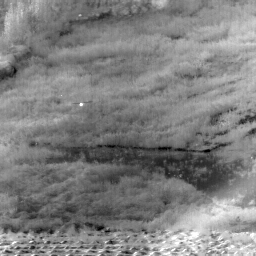aircraft: (80, 104, 82, 106)
